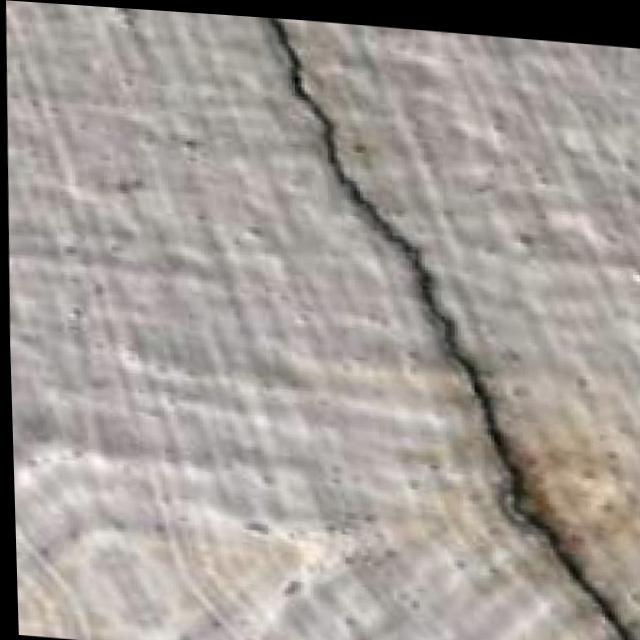Crack: (256, 13, 640, 640)
